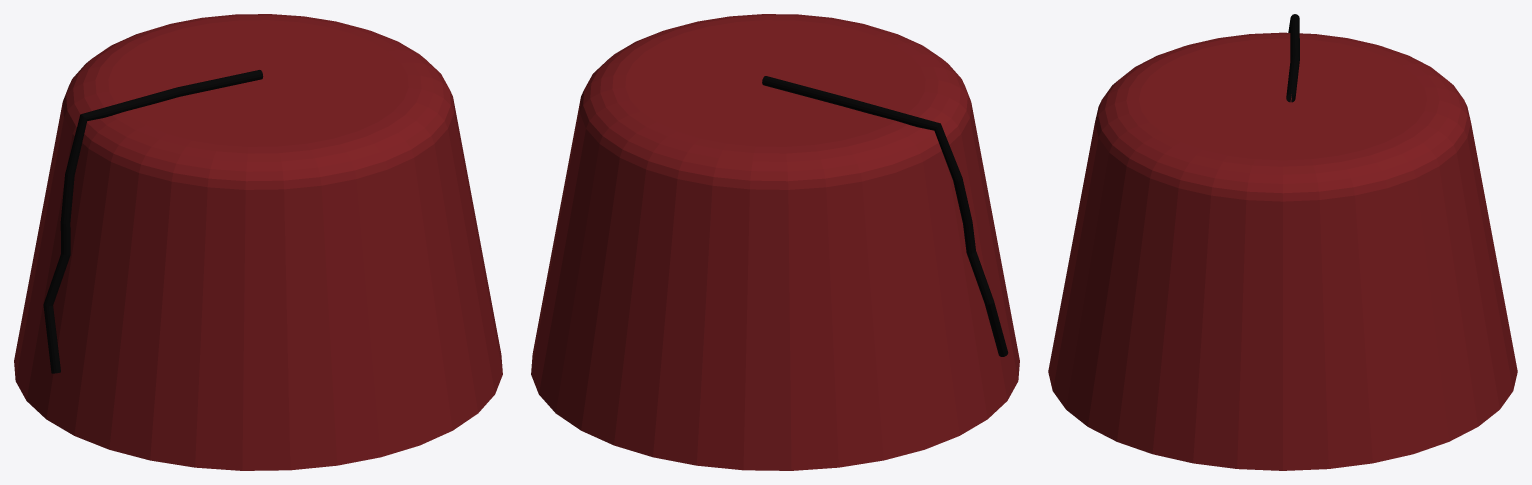
3 renders of one model, left to right at view 1: azimuth 30°, elevation 25°; view 2: azimuth 150°, elevation 25°; view 3: azimuth 270°, elevation 25°, orthographic. The views are drawn at different scales.
Parts seen in each view (by area): view 1: Cylinder, Plane; view 2: Cylinder, Plane; view 3: Cylinder, Plane.
Part boxes in pixels (x1,y1,x2,y2): Cylinder: (14, 14, 502, 470); Plane: (43, 70, 263, 373); Cylinder: (531, 14, 1019, 470); Plane: (762, 76, 1008, 356); Cylinder: (1048, 32, 1517, 470); Plane: (1286, 14, 1299, 102).
Size of the model in its own units: 203 by 132 by 200.
